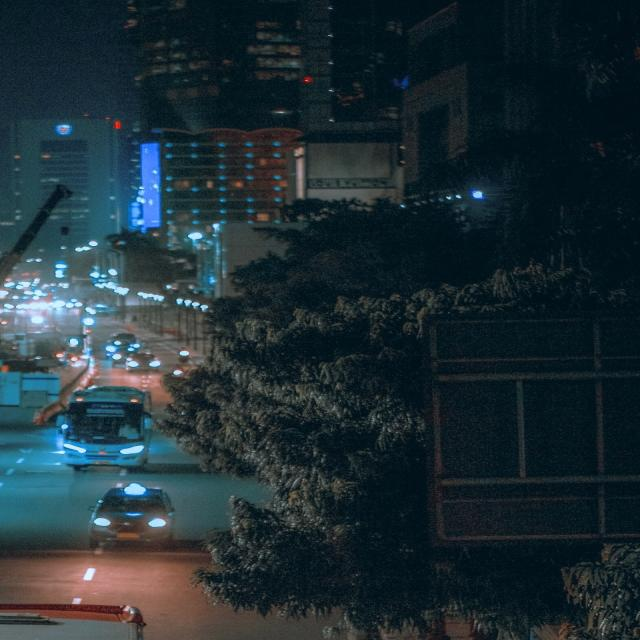bus: (59, 386, 154, 470), (0, 601, 172, 640)
car: (87, 486, 177, 549), (126, 352, 160, 372), (104, 339, 134, 357)
